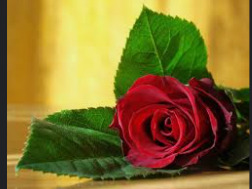RedRose: (110, 77, 237, 167)
